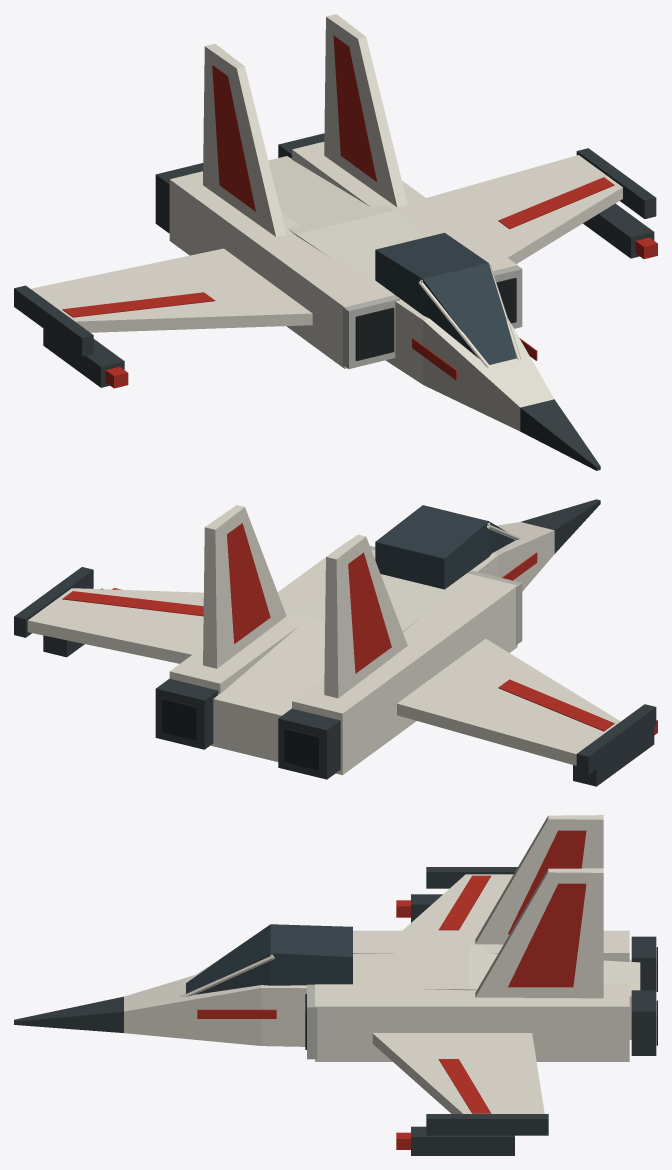
3 views of the same model, one above another, from view 1: azimuth 30°, elevation 25°; view 2: azimuth 150°, elevation 25°; view 3: azimuth 270°, elevation 25° (orthographic). The views are drawn at different scales.
Parts seen in each view (by area): view 1: jet-b-fleet-armor, jet-b-fleet-machine, jet-b-fleet-red, jet-b-fleet-glass, jet-b-fleet-rubber, jet-b-fleet-edge; view 2: jet-b-fleet-armor, jet-b-fleet-machine, jet-b-fleet-red, jet-b-fleet-glass, jet-b-fleet-rubber, jet-b-fleet-edge; view 3: jet-b-fleet-armor, jet-b-fleet-machine, jet-b-fleet-red, jet-b-fleet-glass, jet-b-fleet-edge.
Boxes of the visible parts, x1,y1,x2,y2 form: jet-b-fleet-armor: [30, 14, 622, 431]; jet-b-fleet-machine: [14, 133, 656, 470]; jet-b-fleet-red: [62, 35, 657, 388]; jet-b-fleet-glass: [375, 232, 516, 364]; jet-b-fleet-rubber: [355, 277, 516, 360]; jet-b-fleet-edge: [343, 266, 522, 368]; jet-b-fleet-armor: [27, 505, 620, 775]; jet-b-fleet-machine: [14, 499, 656, 786]; jet-b-fleet-red: [62, 523, 657, 735]; jet-b-fleet-glass: [375, 505, 515, 589]; jet-b-fleet-rubber: [162, 698, 319, 770]; jet-b-fleet-edge: [346, 541, 522, 644]; jet-b-fleet-armor: [124, 815, 640, 1113]; jet-b-fleet-machine: [14, 867, 656, 1155]; jet-b-fleet-red: [197, 830, 586, 1149]; jet-b-fleet-glass: [186, 924, 352, 994]; jet-b-fleet-edge: [307, 984, 317, 1059].
Bounding box in the file's own units: 50.69 × 17.86 × 54.74.
